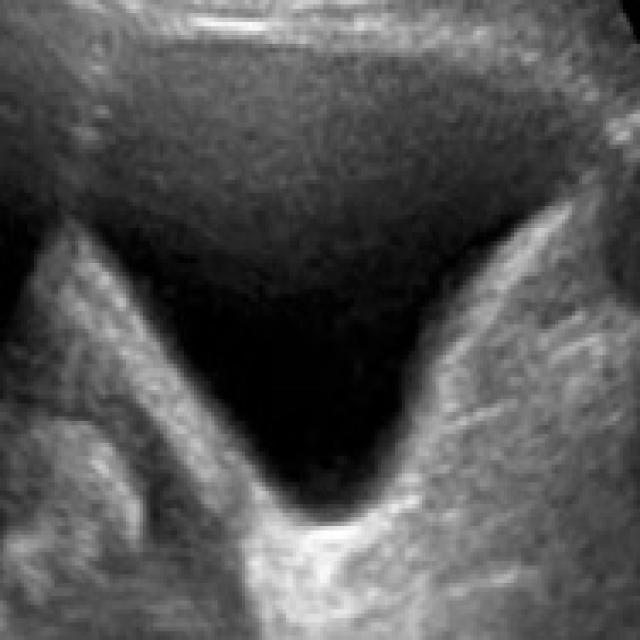bladder: (33, 20, 623, 574)
